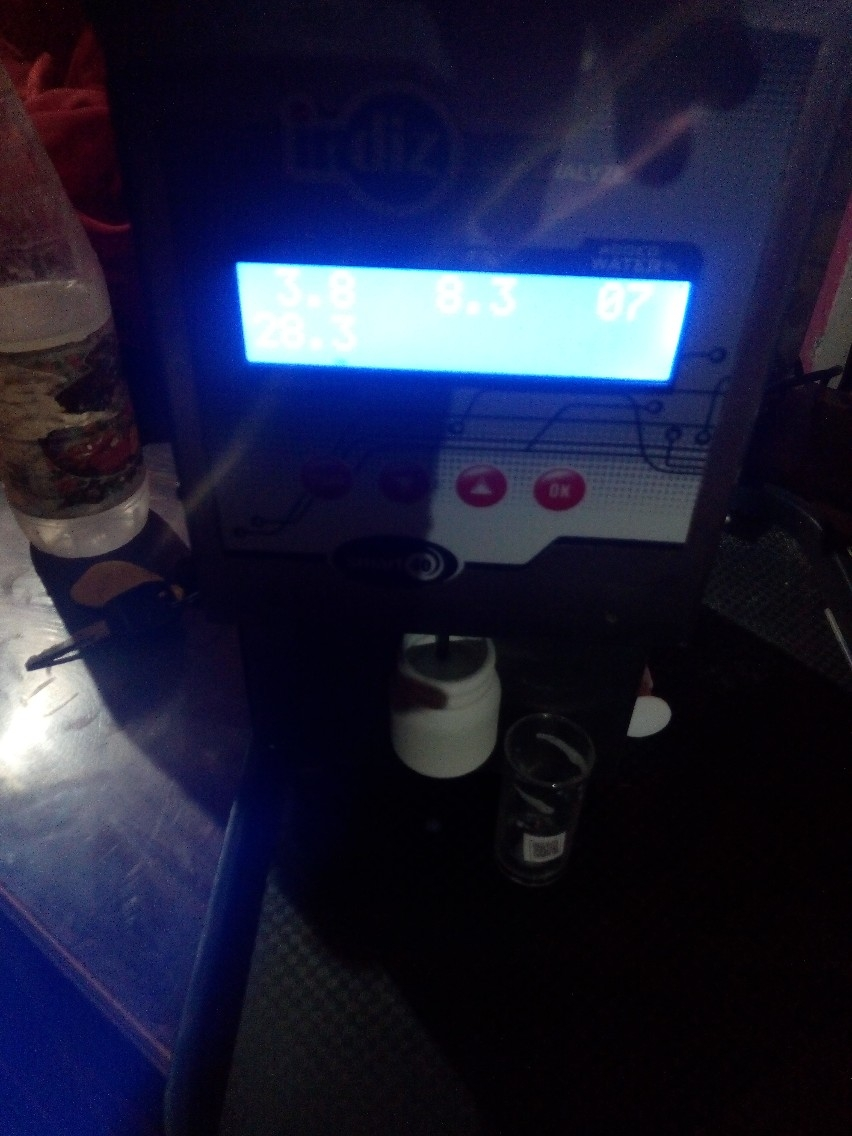lcd: (228, 256, 698, 399)
qr: (521, 828, 574, 873)
